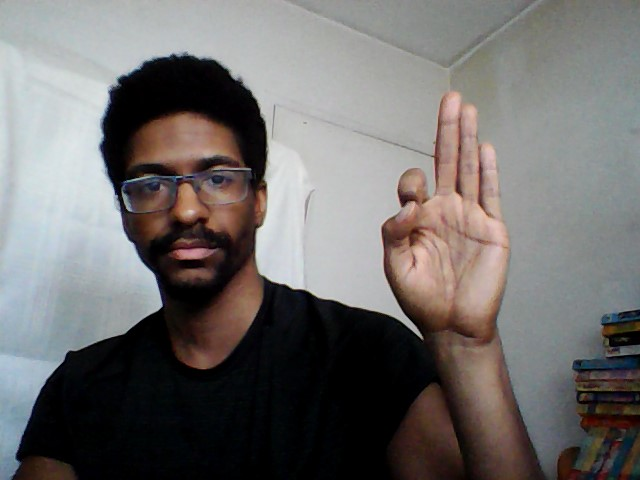f: (379, 84, 516, 309)
